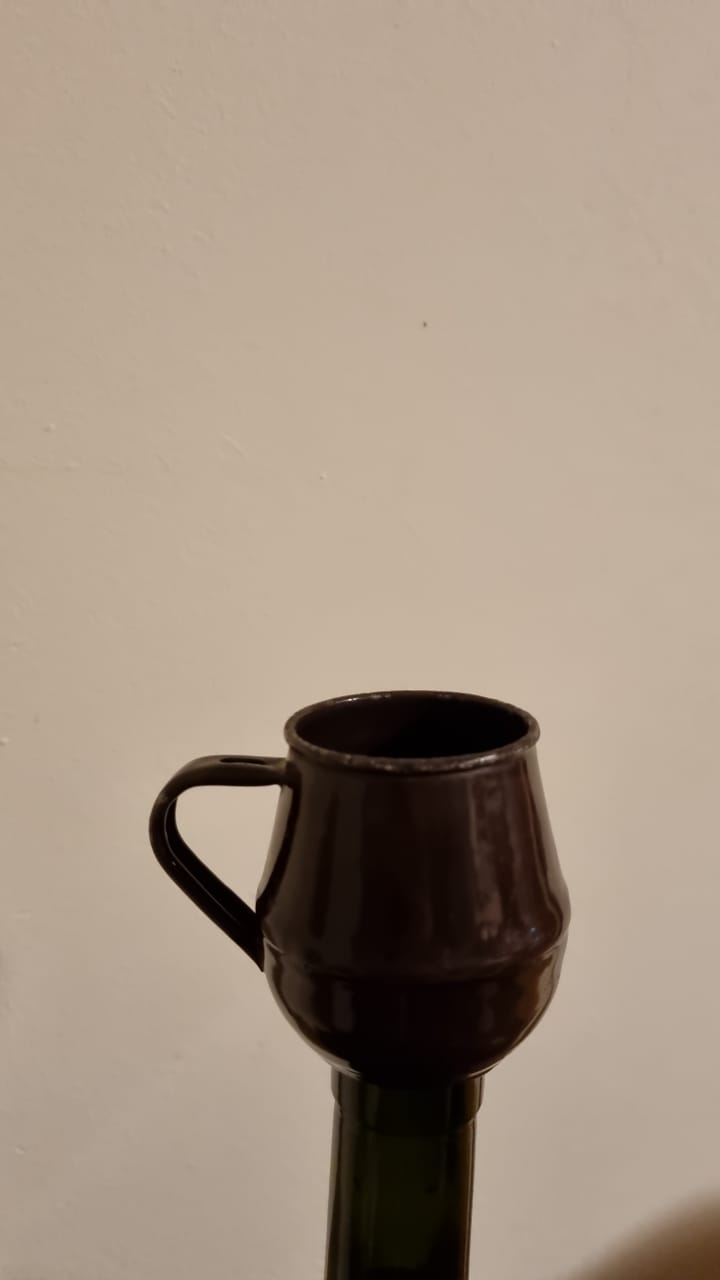mate: (144, 662, 608, 1092)
metal: (142, 660, 606, 1090)
